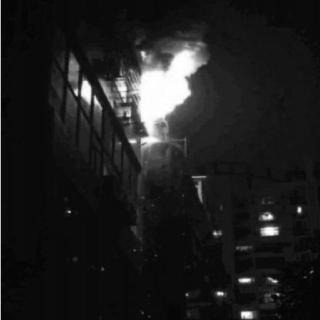Fire: (127, 48, 195, 154)
